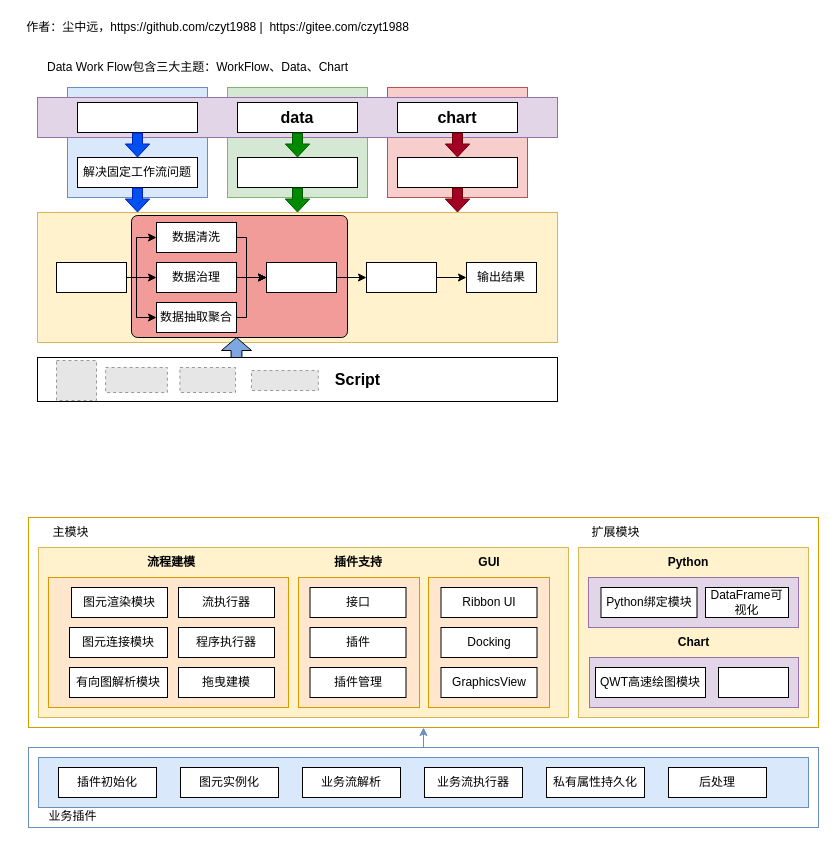
This 836x848 diagram has some shape labels left out. Grey dashed boxes stand in for pictures. The shapes that lost their labels are listed below. From the top down, each one's box as (x1, y1, x2, y2) in pixels, then its label:
(76, 102, 198, 132): work flow
(236, 156, 358, 188): 实现数据的治理
(396, 156, 518, 188): 实现数据可视化
(56, 262, 126, 292): 导入数据
(266, 262, 336, 292): 数据处理
(366, 262, 436, 292): 数据可视化
(718, 666, 788, 698): 绘图设置
